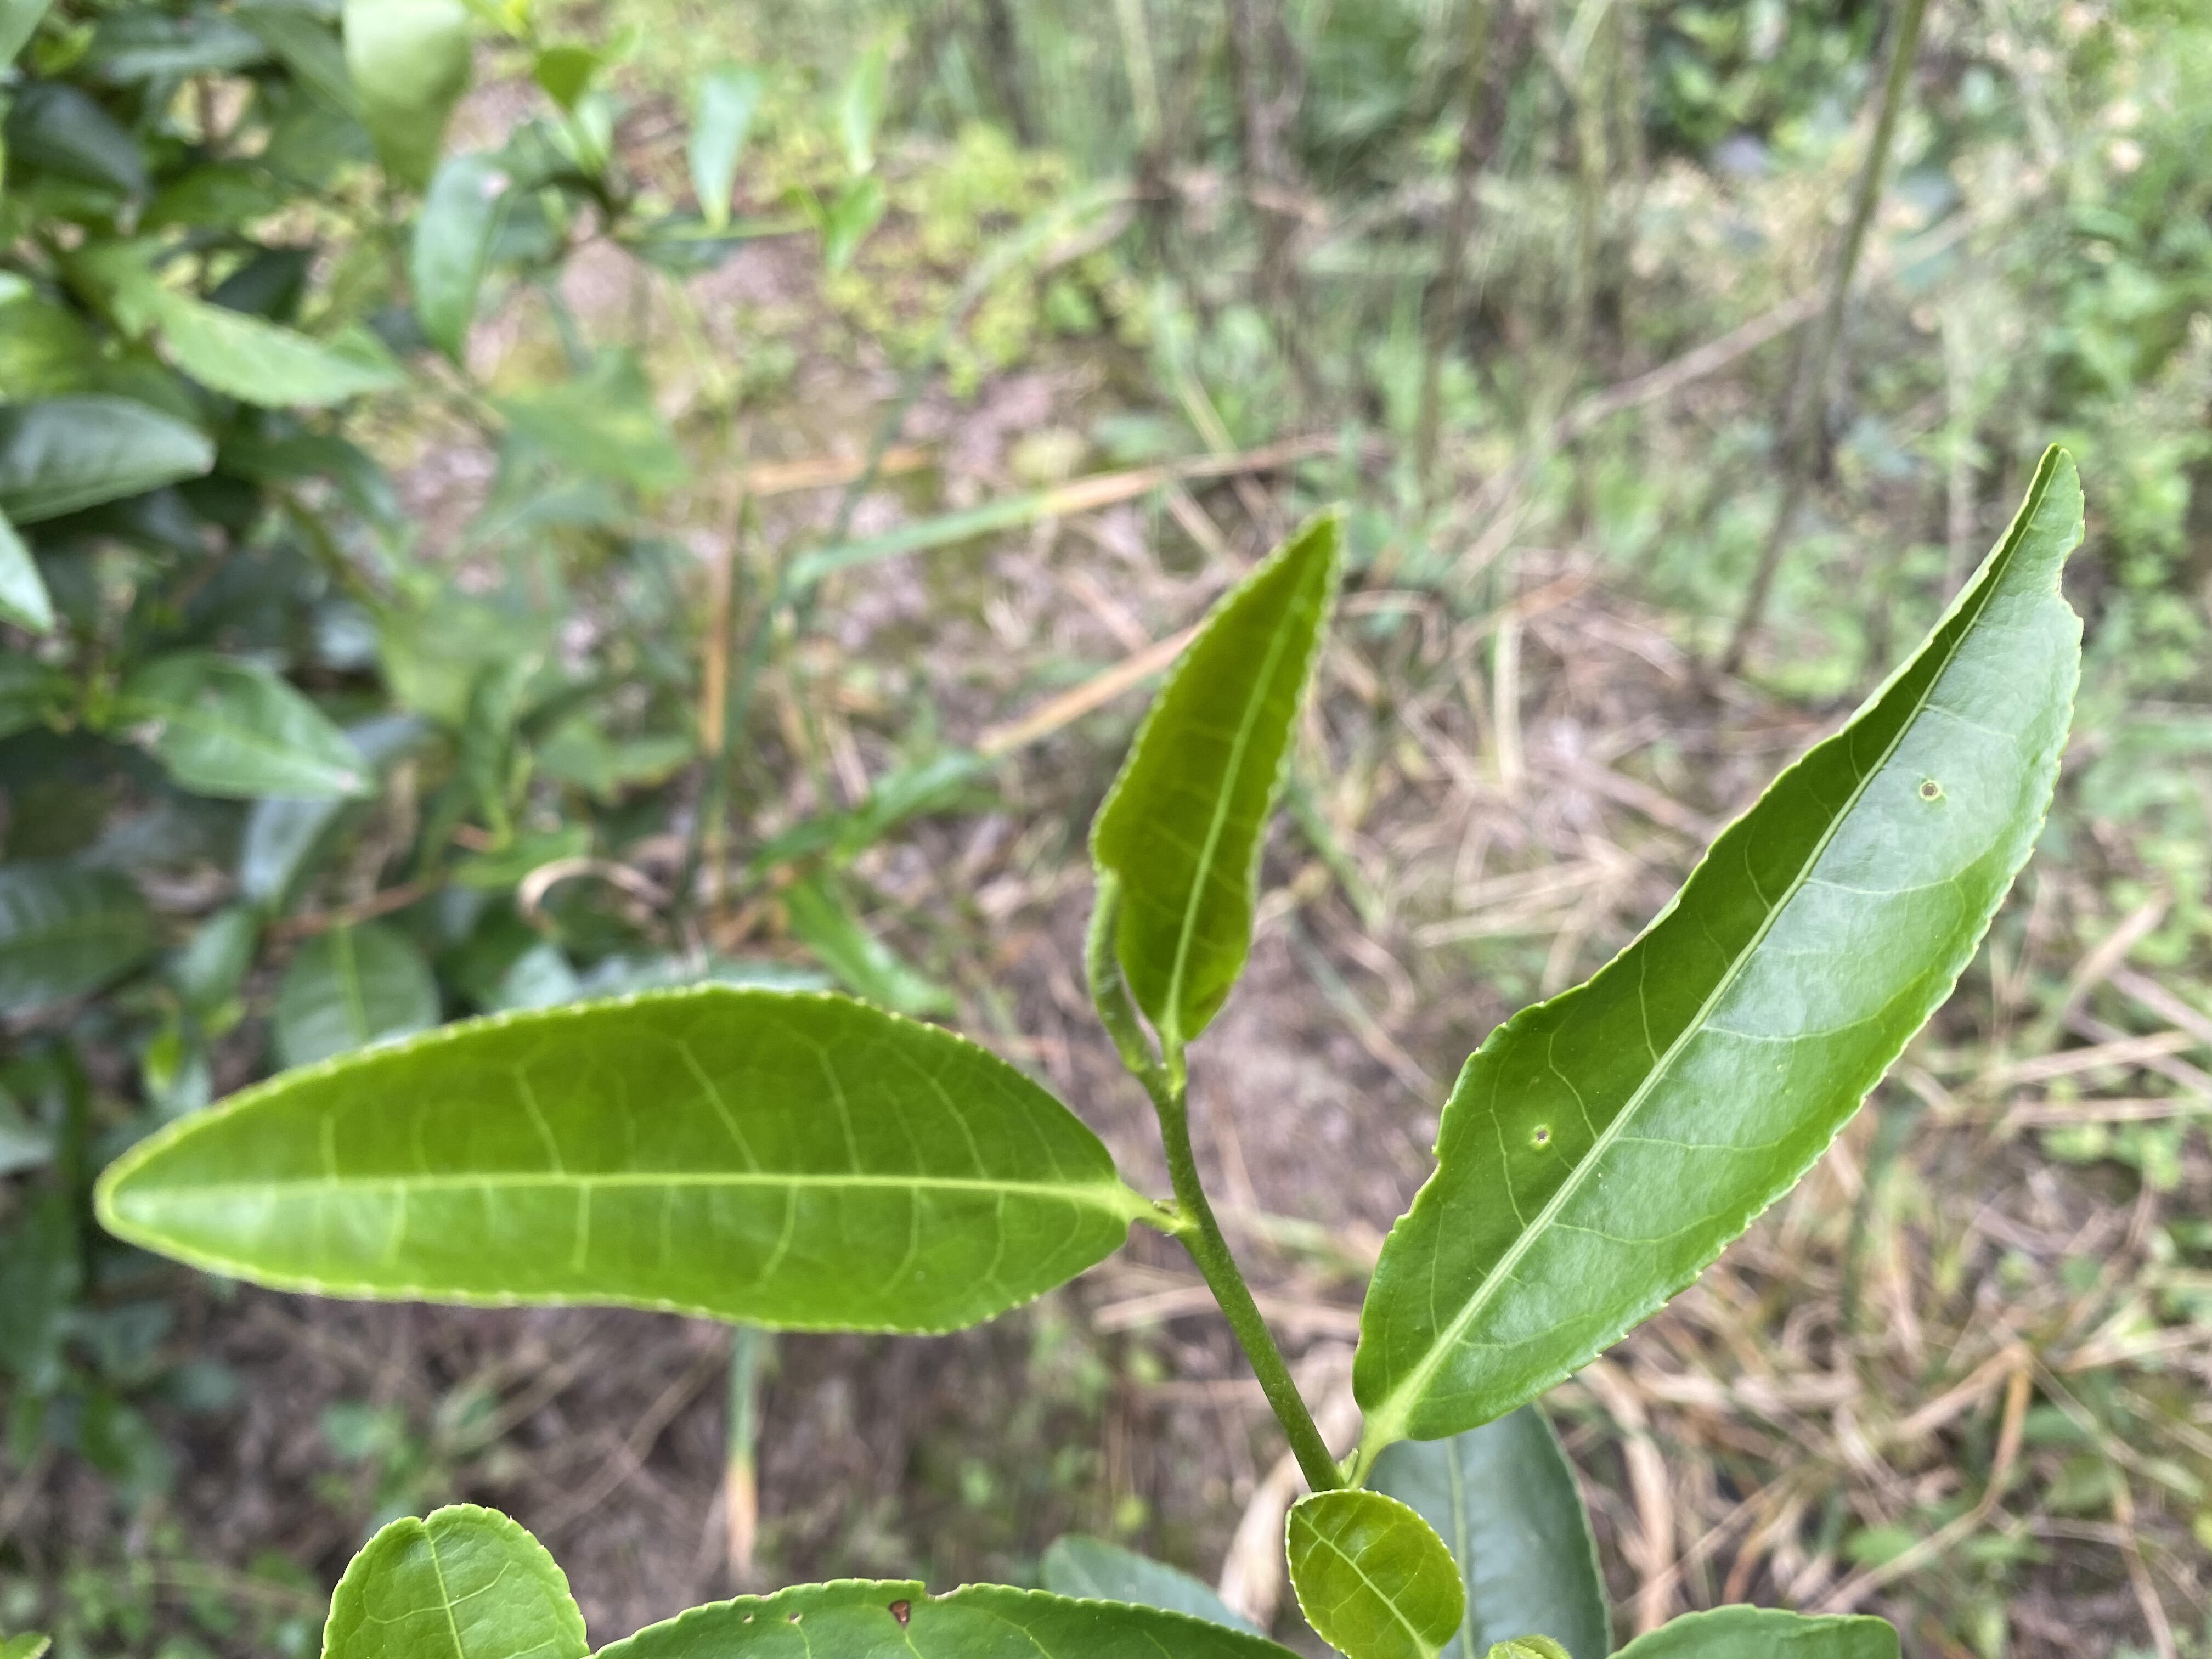chihuo_low: (1350, 444, 2088, 1445)
healthy: (94, 981, 1130, 1342), (1094, 511, 1339, 1051)
